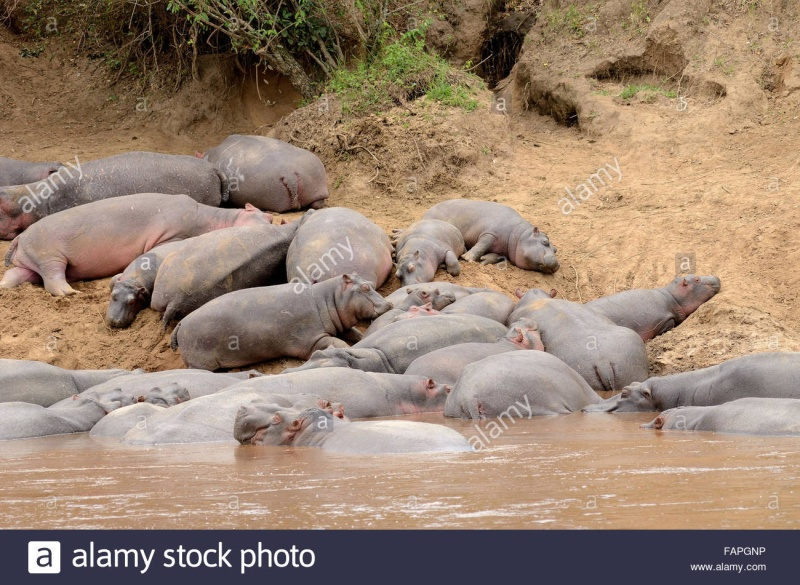hipopotamo: (4, 190, 284, 284), (170, 274, 394, 361), (230, 399, 484, 470), (502, 278, 653, 382), (574, 355, 800, 413), (208, 121, 342, 209), (436, 192, 565, 278), (576, 268, 726, 337), (391, 207, 473, 289), (96, 248, 172, 334)
